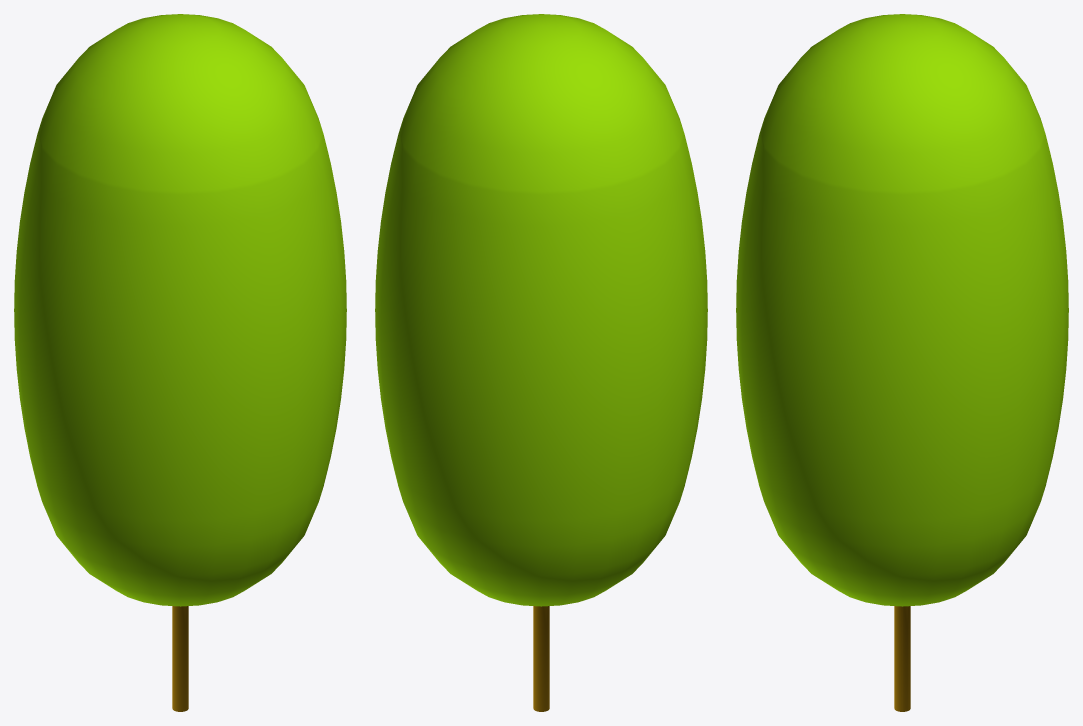
3 views of the same model, side by side, from view 1: azimuth 30°, elevation 25°; view 2: azimuth 150°, elevation 25°; view 3: azimuth 270°, elevation 25° (orthographic).
Visible parts, largest first — view 1: LP21m; view 2: LP21m; view 3: LP21m.
Boxes of the visible parts, x1,y1,x2,y2 form: LP21m: (14, 14, 346, 711); LP21m: (375, 14, 707, 711); LP21m: (736, 14, 1068, 711).
Bounding box in the file's own units: 9.28 × 21 × 9.28.
